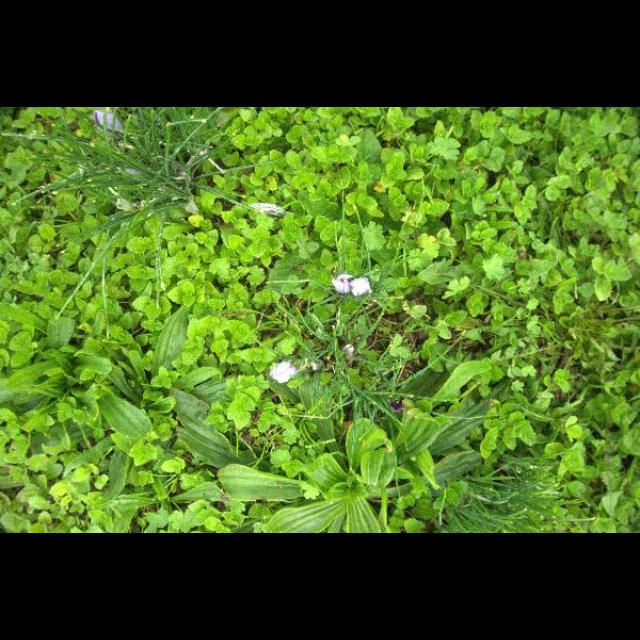flower: (271, 362, 297, 383), (94, 110, 120, 128)
overlap: (332, 276, 372, 296)
